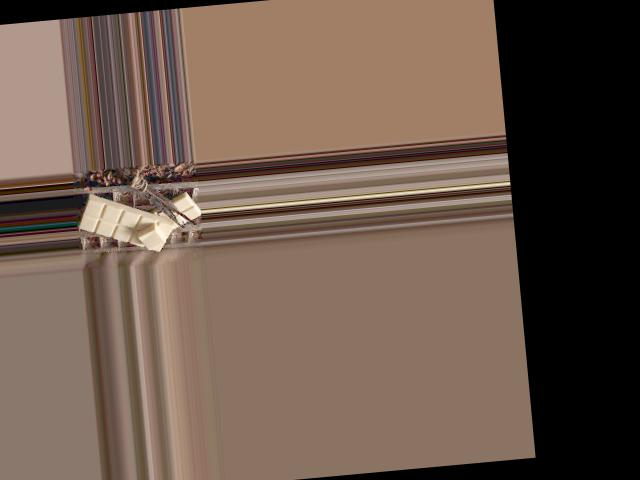chocolate: (77, 188, 179, 257)
